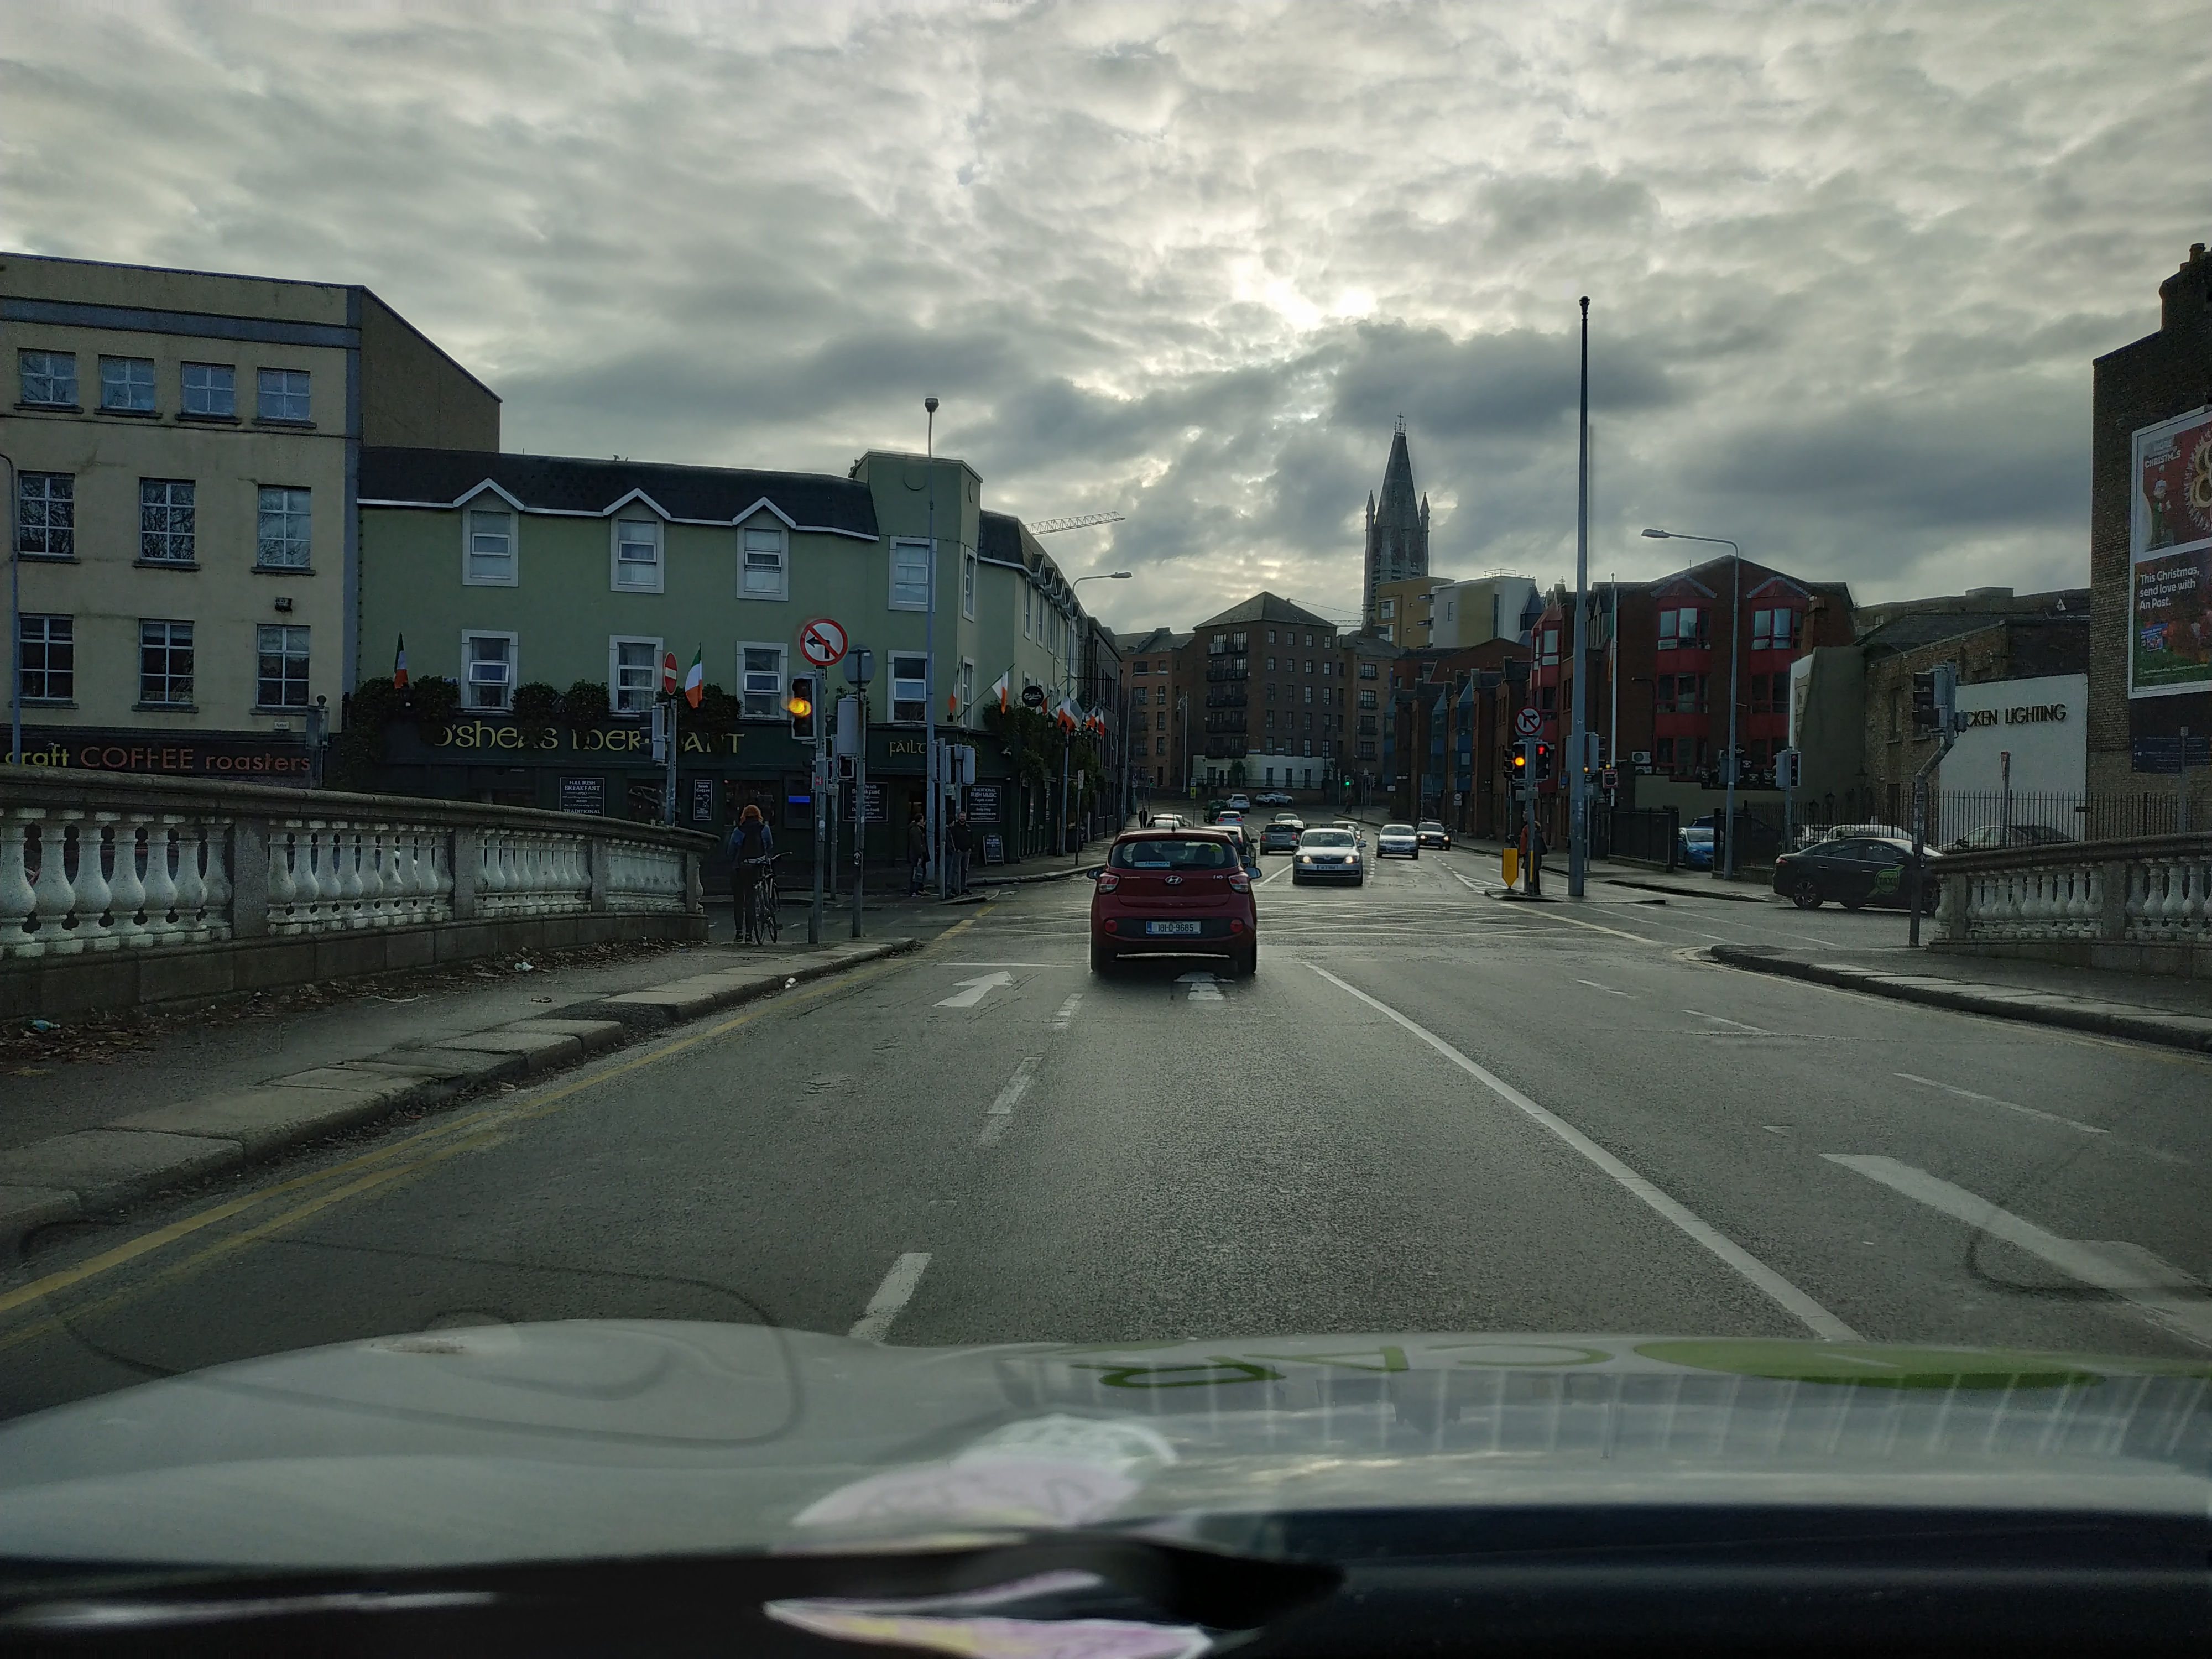Bicycle: (751, 852, 792, 945)
Car: (1088, 828, 1262, 976), (1374, 824, 1420, 860), (1260, 823, 1303, 855), (1414, 818, 1451, 851), (1255, 791, 1295, 807), (1225, 794, 1249, 811)
Person: (727, 805, 773, 946), (1517, 810, 1549, 895), (1138, 807, 1149, 831)
Taxi: (1773, 837, 1985, 915), (1292, 825, 1367, 886)
